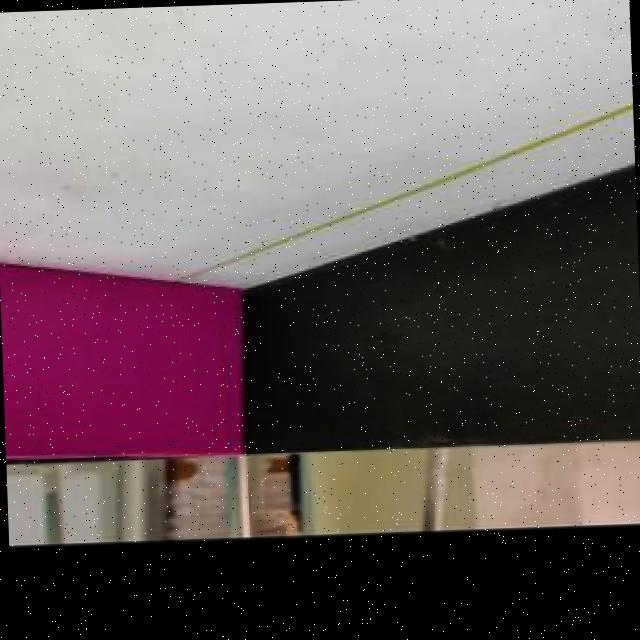xparking: (0, 263, 239, 459)
